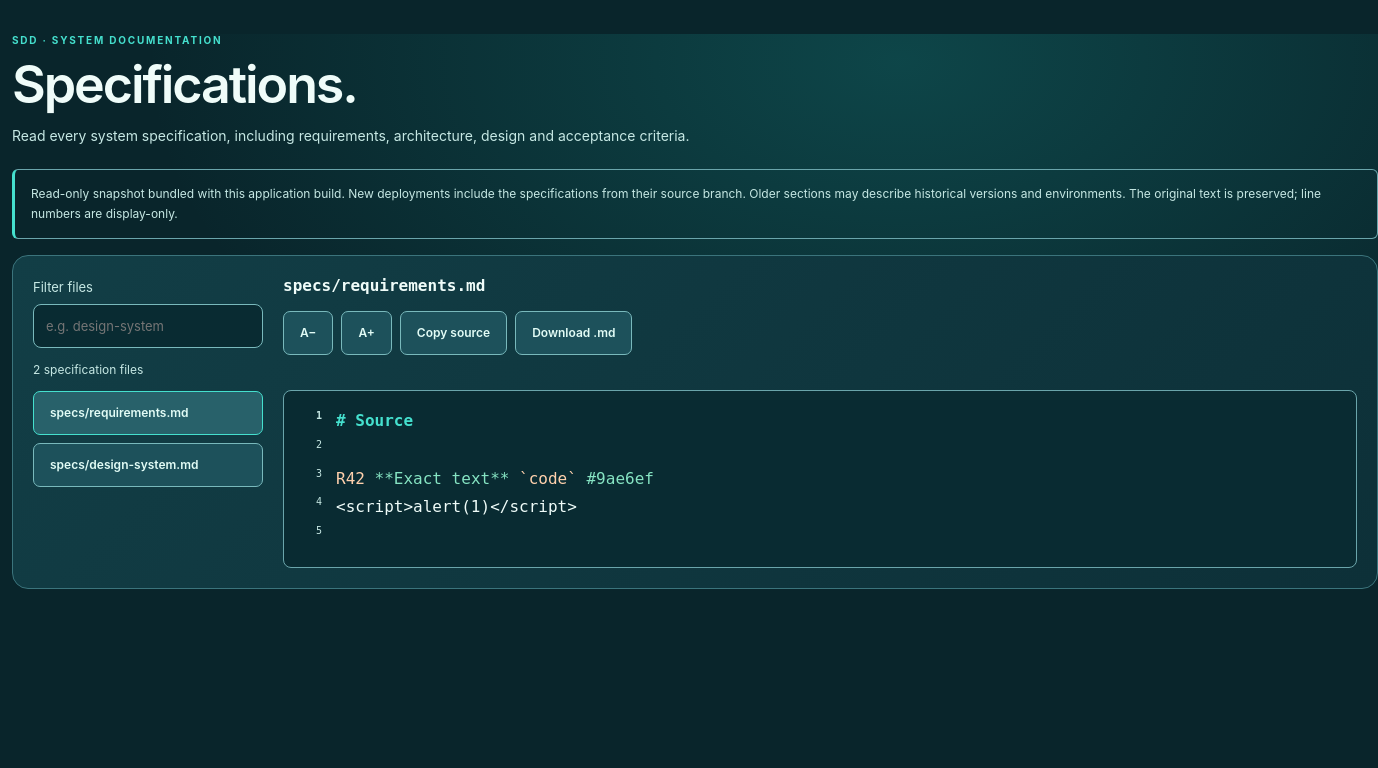
Test case: copies and downloads original source and reports clipboard failure honestly
Expected: the element named "Source of specs/requirements.md" is shown, [283, 390, 1357, 568]
What coordinates should you click on to do the following:
click the button "Copy source"
I would click on:
 (453, 333)
Its box is [400, 311, 507, 355].
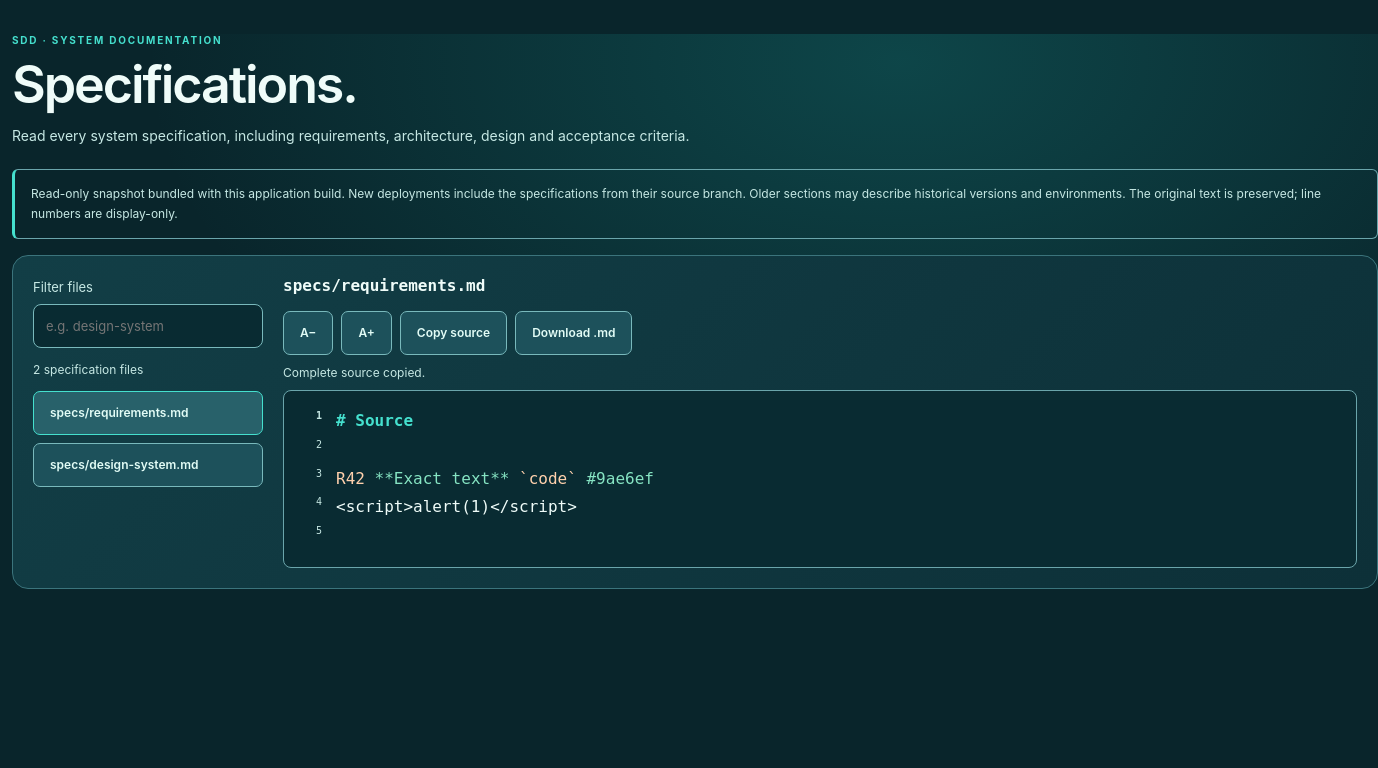
Now the text "Complete source copied." is shown, box [283, 365, 425, 380]
What coordinates should you click on to do the following:
click the button "Download .md"
I would click on:
 (574, 333)
Its box is [515, 311, 632, 355].
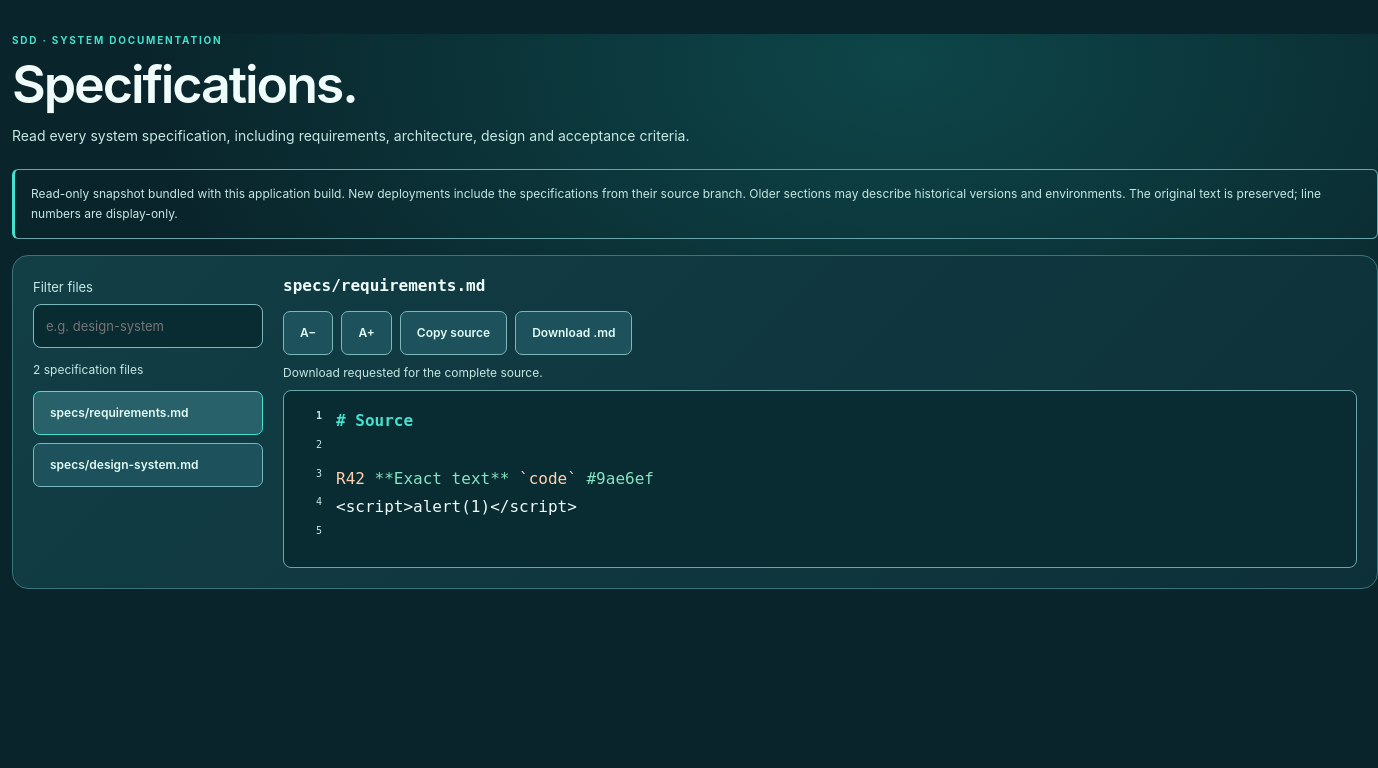
What coordinates should you click on to do the following:
click the button "Copy source"
I would click on:
 (453, 333)
Its box is [400, 311, 507, 355].
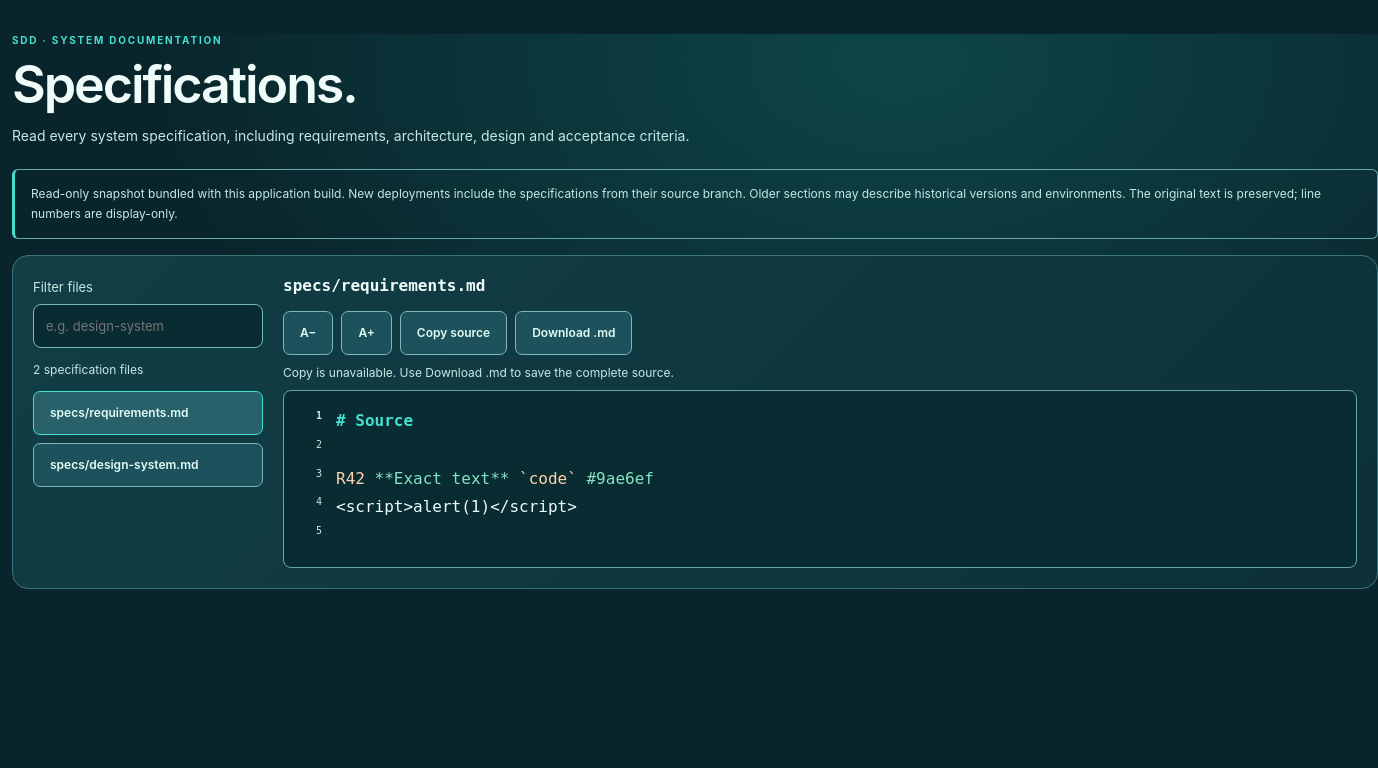
Now the text "Copy is unavailable. Use Download .md to save the complete source." is shown, box [283, 365, 674, 380]
